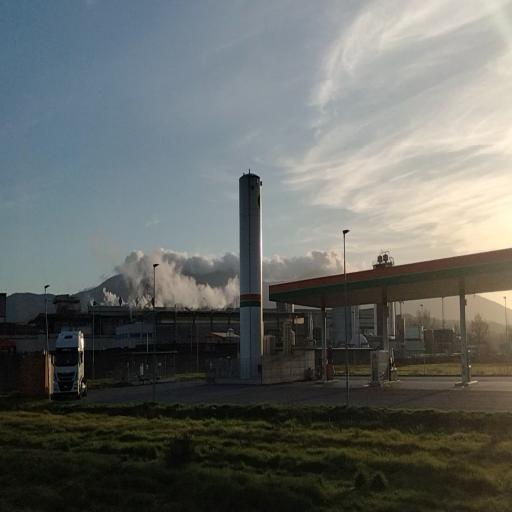leakage: (97, 240, 243, 316)
